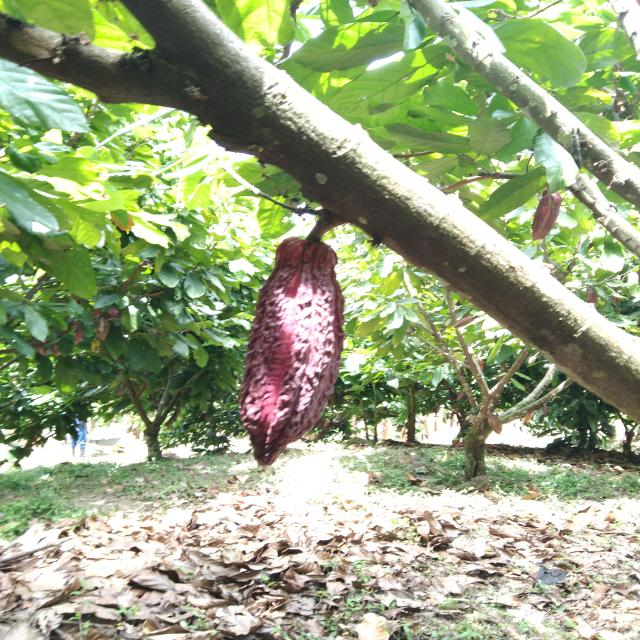Sana: (236, 238, 348, 464), (532, 195, 562, 239)
